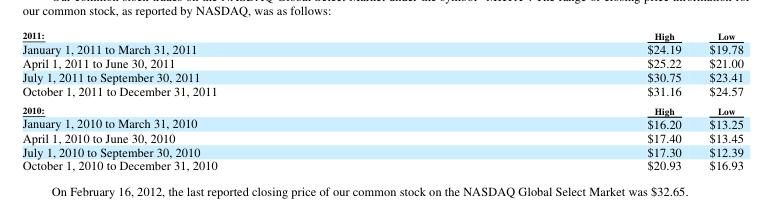table: (21, 28, 742, 172)
table column: (21, 28, 431, 172), (431, 28, 694, 172), (694, 28, 742, 172)
table column header: (21, 28, 742, 40)
table row: (21, 82, 742, 100), (21, 40, 742, 55), (21, 100, 742, 115), (21, 157, 742, 172), (21, 55, 742, 69), (21, 115, 742, 129), (21, 129, 742, 143), (21, 143, 742, 157), (21, 69, 742, 82), (21, 28, 742, 40)
